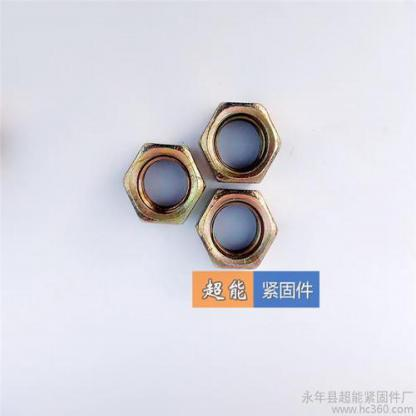FOD: (197, 98, 283, 186), (195, 184, 281, 271), (121, 139, 202, 227)
